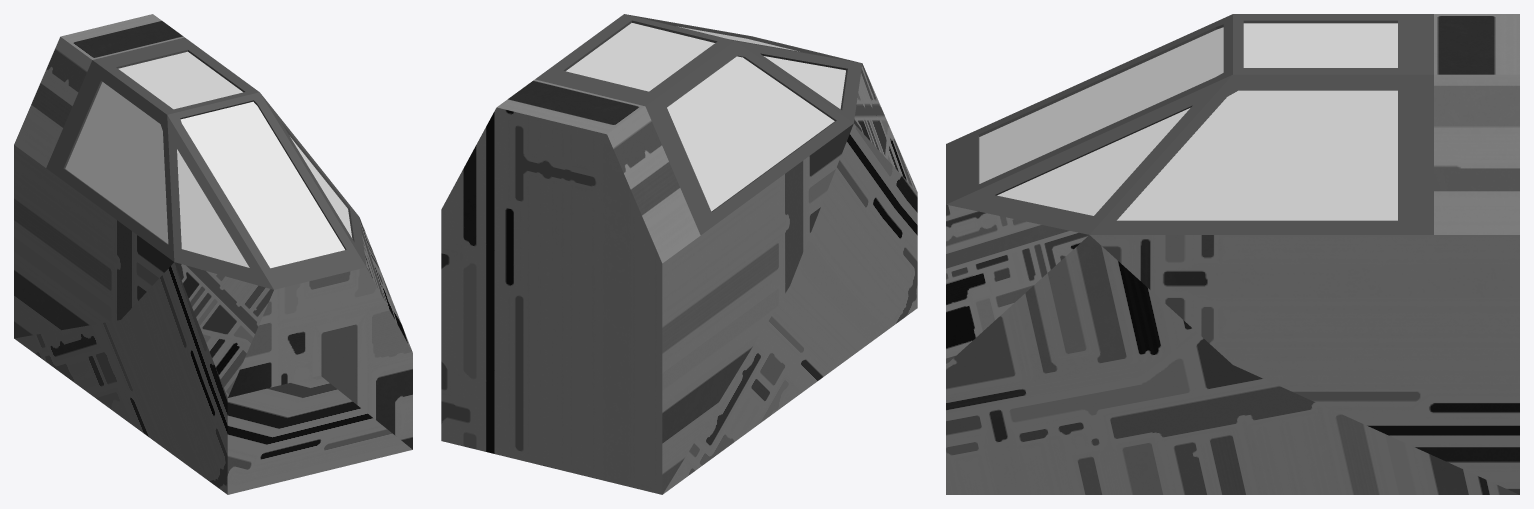
The model's file is spaceship.fbx.
3 renders of one model, left to right at view 1: azimuth 30°, elevation 25°; view 2: azimuth 150°, elevation 25°; view 3: azimuth 270°, elevation 25°, orthographic. The views are drawn at different scales.
Visible parts, largest first — view 1: Body, CanopyGlass, CanopyFrame; view 2: Body, CanopyGlass, CanopyFrame; view 3: Body, CanopyGlass, CanopyFrame.
Part boxes in pixels (bbox=[...]): Body: bbox=[14, 14, 412, 494]; CanopyGlass: bbox=[65, 51, 352, 268]; CanopyFrame: bbox=[46, 37, 366, 289]; Body: bbox=[441, 63, 917, 494]; CanopyGlass: bbox=[566, 23, 845, 211]; CanopyFrame: bbox=[535, 14, 862, 234]; Body: bbox=[946, 14, 1519, 494]; CanopyGlass: bbox=[979, 23, 1397, 220]; CanopyFrame: bbox=[946, 14, 1433, 234].
Size of the model in its own units: 100 by 150 by 200.
